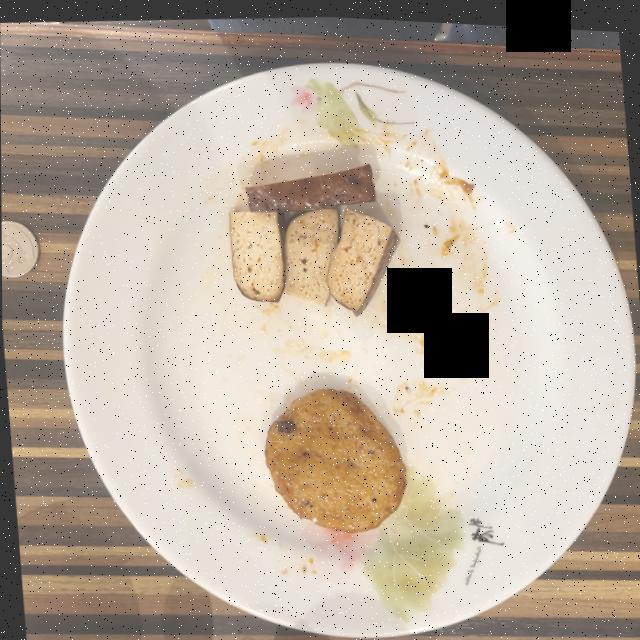coin: (1, 219, 38, 276)
firm tofu: (228, 159, 399, 310)
fish cake: (264, 384, 405, 527)
